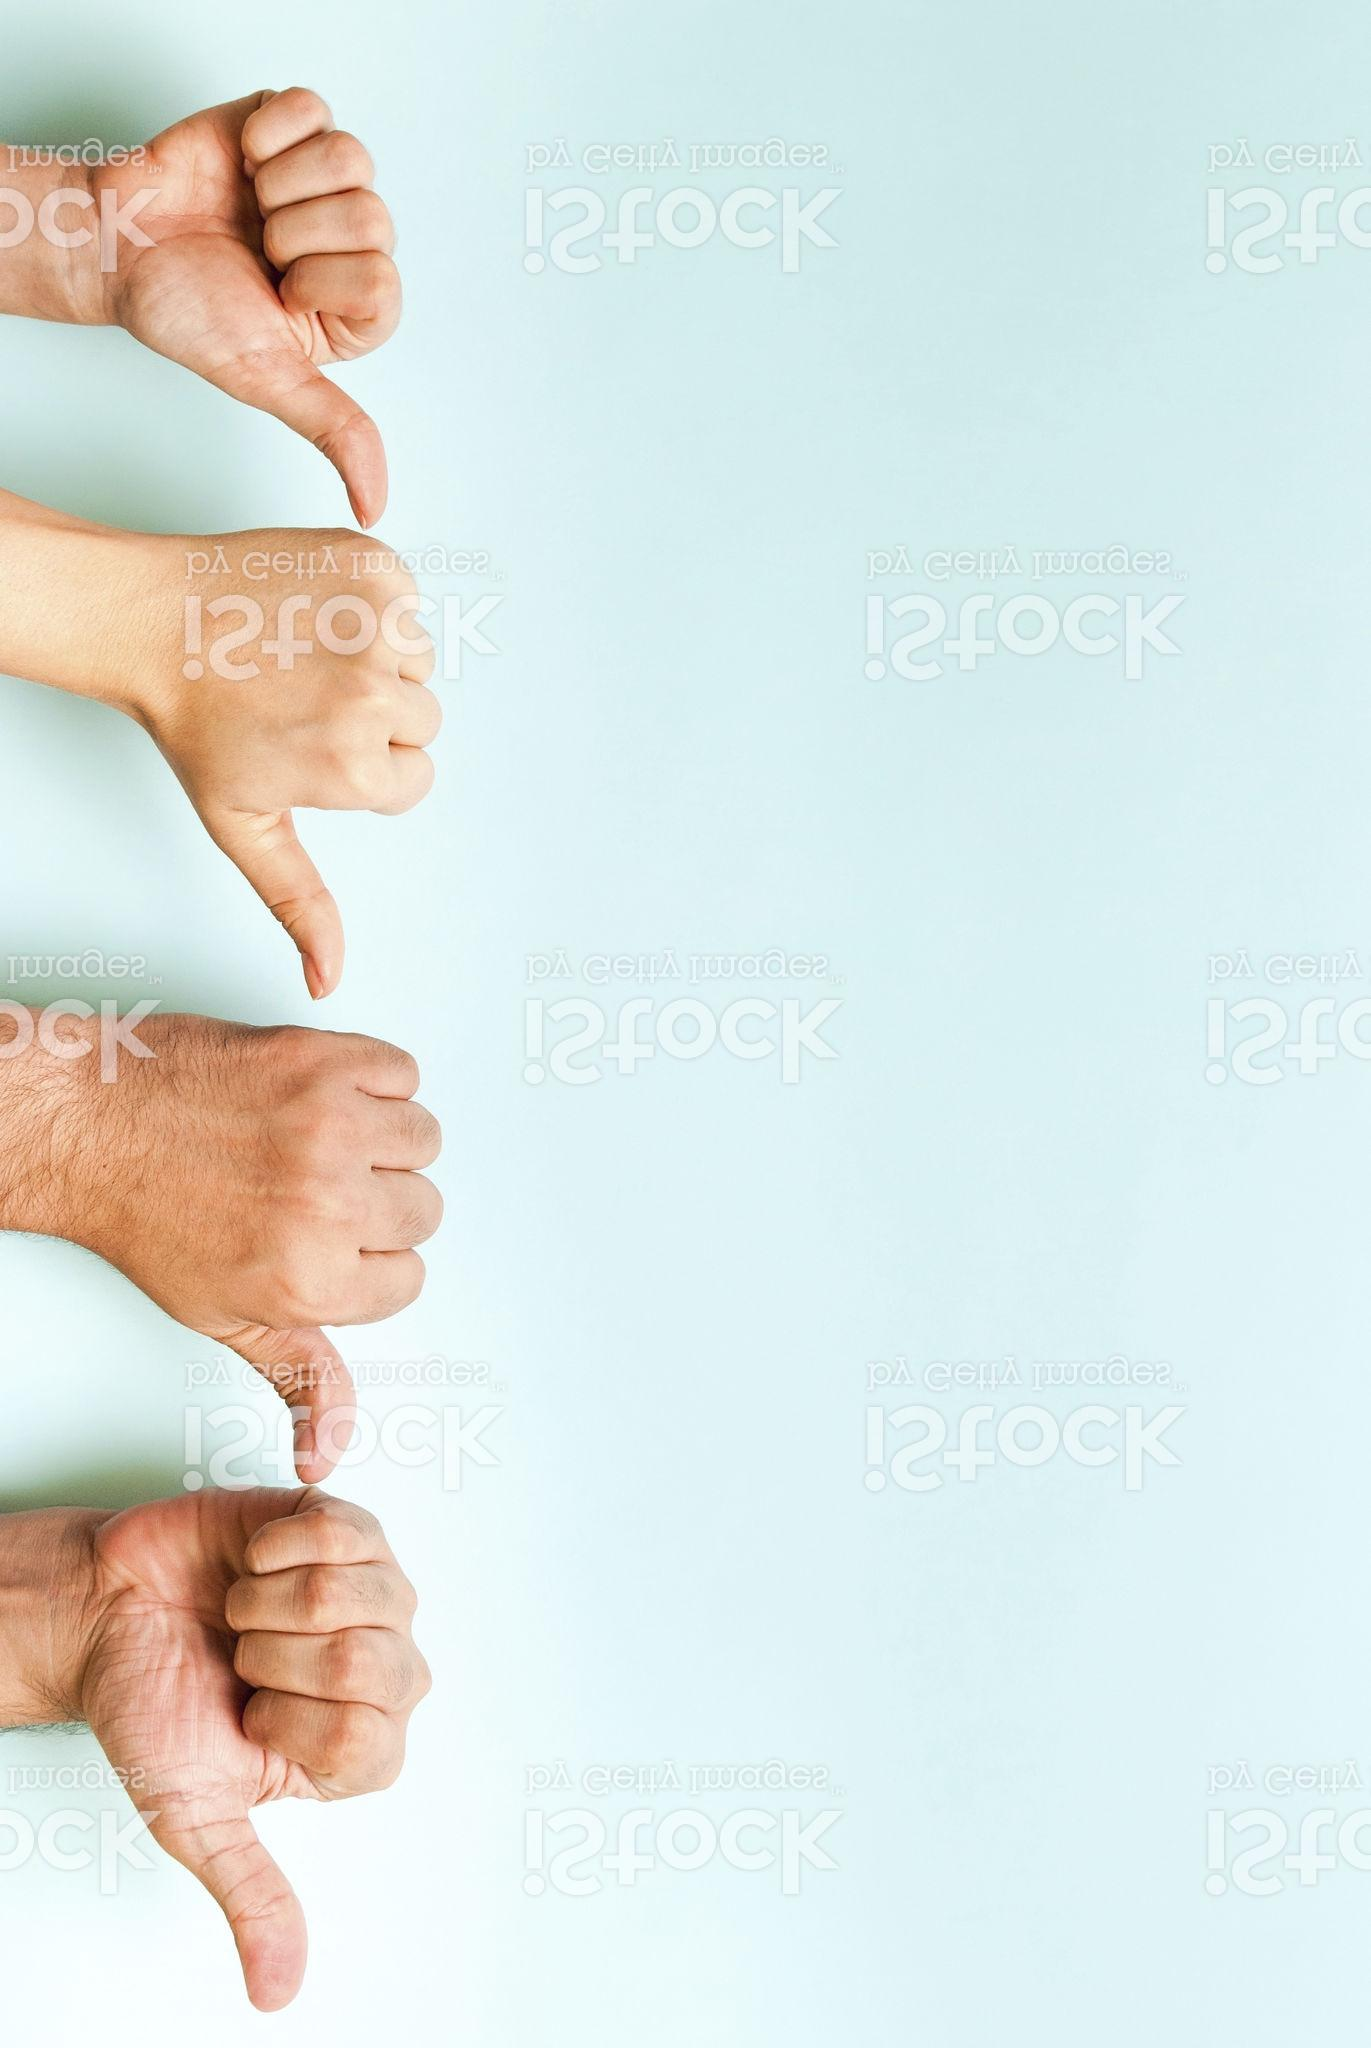thumbsdown: (151, 1488, 436, 2016), (194, 83, 399, 531)
